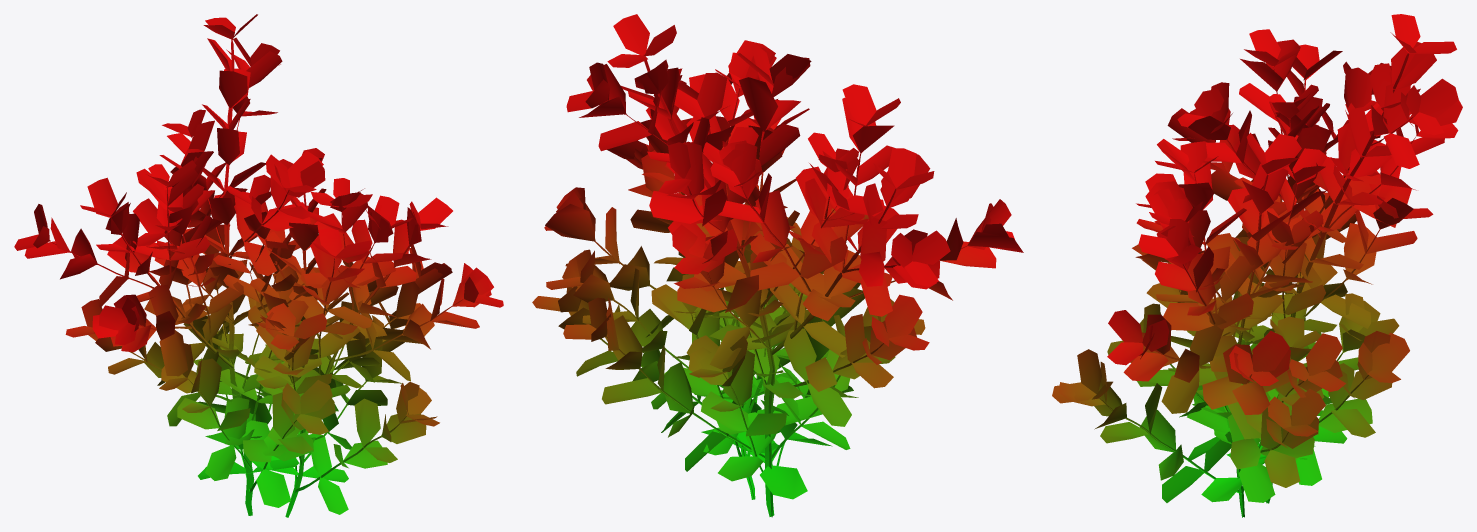
File: Var10_LOD3.fbx
The picture shows the model from 3 angles, left to right: view 1: azimuth 30°, elevation 25°; view 2: azimuth 150°, elevation 25°; view 3: azimuth 270°, elevation 25°; orthographic projection. The views are drawn at different scales.
Parts seen in each view (by area): view 1: _xxbt_Var10_LOD3; view 2: _xxbt_Var10_LOD3; view 3: _xxbt_Var10_LOD3.
Boxes of the visible parts, x1,y1,x2,y2 form: _xxbt_Var10_LOD3: (14,14,503,517); _xxbt_Var10_LOD3: (532,14,1023,517); _xxbt_Var10_LOD3: (1052,14,1462,517).
Size of the model in its own units: 15.74 by 17.78 by 13.15.
